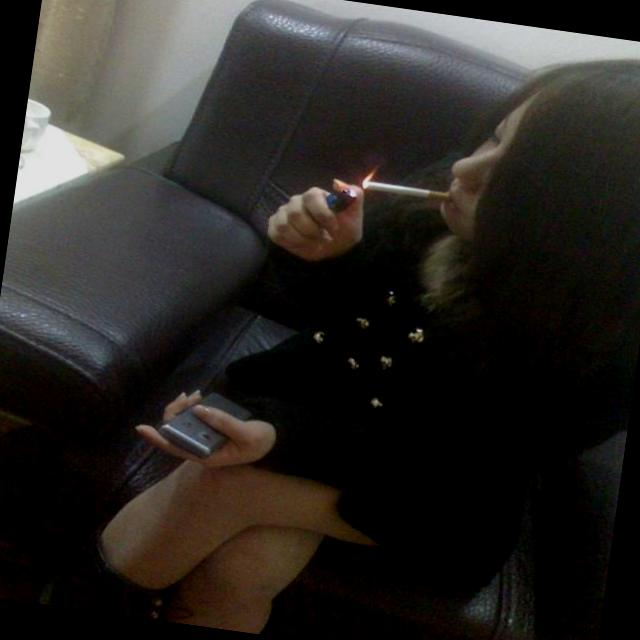smoke: (362, 178, 452, 204)
